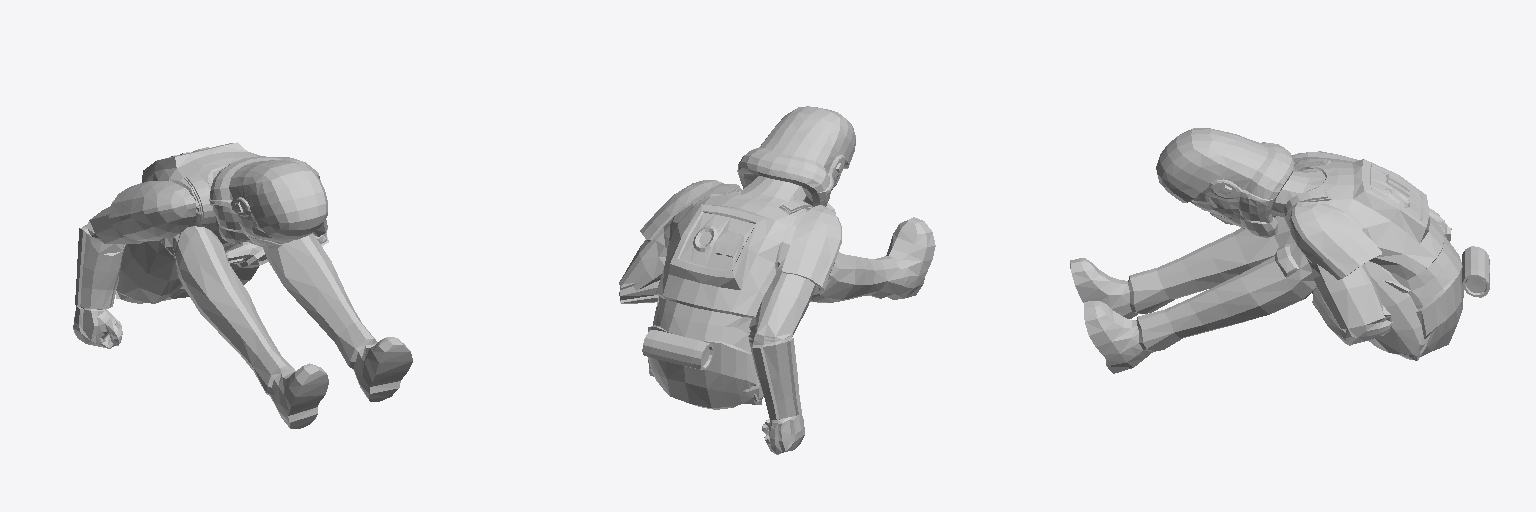
Rendered from Move_000261.obj.
3 renders of one model, left to right at view 1: azimuth 30°, elevation 25°; view 2: azimuth 150°, elevation 25°; view 3: azimuth 270°, elevation 25°, orthographic.
Size of the model in its own units: 1.37 by 1.46 by 2.35.